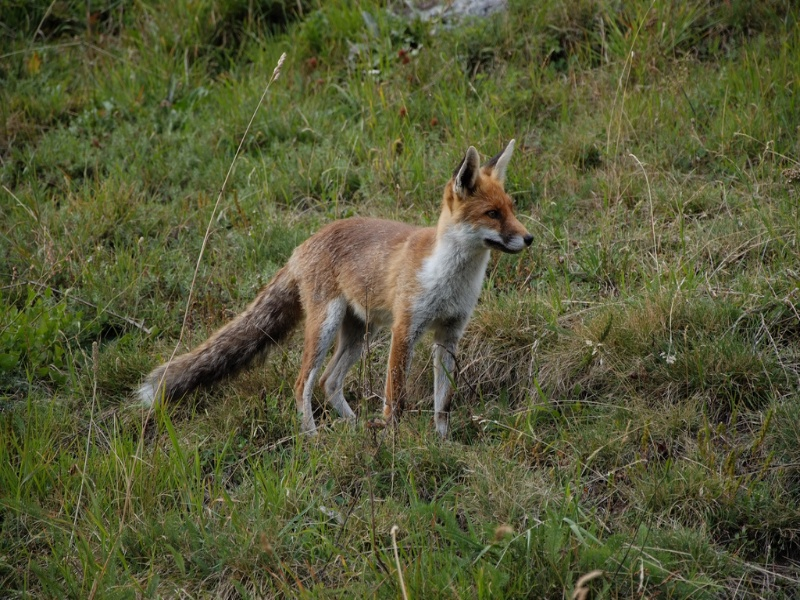fox: (141, 135, 539, 432)
